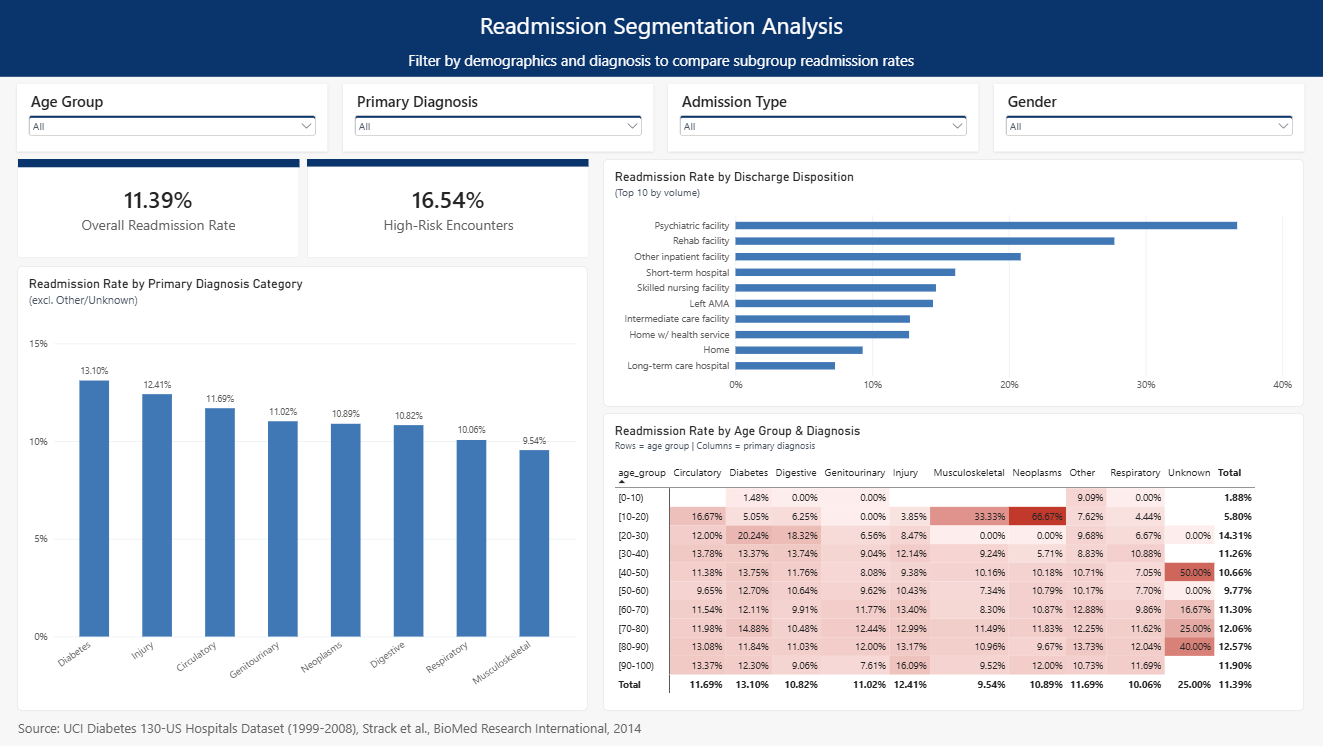

What the dashboard file says about the page in this screenshot:
{"tool":"powerbi","page":{"name":"Segmentation","canvas":[1920,1080],"ordinal":1},"visuals":[{"type":"shape","box":[0,0,1920,69.2],"z":0},{"type":"cardVisual","fields":{"Data":["hospital_readmission vw_encounter_risk_tier.High-Risk Encounters"]},"box":[446,230,408,143.5],"z":0,"group":"g2"},{"type":"shape","box":[0,62.1,1919.3,49.3],"z":1000},{"type":"shape","box":[446.2,230.3,408,11.2],"z":1000,"group":"g2"},{"type":"textbox","box":[27,1041.7,1103.4,38.6],"z":2000},{"type":"slicer","title":"Age Group","fields":{"Values":["hospital_readmission vw_encounter_full.age_group"]},"box":[26.6,121,450,98],"z":3000},{"type":"slicer","title":"Primary Diagnosis","fields":{"Values":["hospital_readmission vw_encounter_full.primary_diagnosis_category"]},"box":[498.3,121,450,98],"z":4000},{"type":"slicer","title":"Admission Type","fields":{"Values":["hospital_readmission vw_encounter_full.admission_type_desc"]},"box":[970,121,450,98],"z":5000},{"type":"slicer","title":"Gender","fields":{"Values":["hospital_readmission vw_encounter_full.gender"]},"box":[1441.8,121,450,98],"z":6000},{"type":"cardVisual","fields":{"Data":["hospital_readmission vw_encounter_full.Overall Readmission Rate"]},"box":[26.2,230,408,143.5],"z":7000,"group":"g1"},{"type":"clusteredColumnChart","title":"Readmission Rate by Primary Diagnosis Category","fields":{"Category":["hospital_readmission vw_encounter_full.primary_diagnosis_category"],"Y":["hospital_readmission vw_encounter_full.Readmission Rate"]},"box":[26.6,385.7,827.3,645.1],"z":7000},{"type":"clusteredBarChart","title":"Readmission Rate by Discharge Disposition ","fields":{"Category":["hospital_readmission vw_encounter_full.discharge_disposition_short"],"Y":["hospital_readmission vw_encounter_full.Readmission Rate"]},"box":[875,230.3,1015.7,358.6],"z":8000},{"type":"pivotTable","title":"Readmission Rate by Age Group & Diagnosis","fields":{"Columns":["hospital_readmission vw_encounter_full.primary_diagnosis_category"],"Rows":["hospital_readmission vw_encounter_full.age_group"],"Values":["hospital_readmission vw_encounter_full.Readmission Rate"]},"box":[875.2,598.5,1016.2,432.3],"z":9000},{"type":"group","id":"g1","title":"Group 1","box":[26.2,230,408.9,143.5],"z":10000},{"type":"shape","box":[27.1,230,408,12],"z":11000,"group":"g1"},{"type":"group","id":"g2","title":"Group 2","box":[446,230,408.2,143.5],"z":11000}]}

Visuals, with their boxes in screenshot pixels (x1, y1, x2, y2), scaled from the page's 1920x1080 canvas onto the 1323x746 screenshot:
shape: <box>0,0,1322,48</box>
cardVisual - hospital_readmission vw_encounter_risk_tier.High-Risk Encounters: <box>307,159,588,258</box>
shape: <box>0,43,1322,77</box>
shape: <box>307,159,589,167</box>
textbox: <box>19,720,779,745</box>
"Age Group" slicer: <box>18,84,328,151</box>
"Primary Diagnosis" slicer: <box>343,84,653,151</box>
"Admission Type" slicer: <box>668,84,978,151</box>
"Gender" slicer: <box>993,84,1304,151</box>
cardVisual - hospital_readmission vw_encounter_full.Overall Readmission Rate: <box>18,159,299,258</box>
"Readmission Rate by Primary Diagnosis Category" clusteredColumnChart: <box>18,266,588,712</box>
"Readmission Rate by Discharge Disposition " clusteredBarChart: <box>603,159,1303,407</box>
"Readmission Rate by Age Group & Diagnosis" pivotTable: <box>603,413,1303,712</box>
"Group 1" group: <box>18,159,300,258</box>
shape: <box>19,159,300,167</box>
"Group 2" group: <box>307,159,589,258</box>
